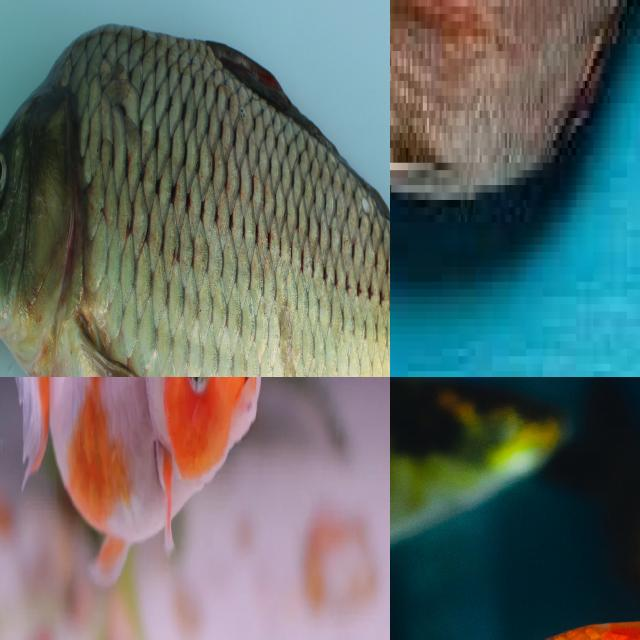fish: (0, 0, 390, 377), (390, 0, 640, 377), (0, 377, 274, 640), (390, 377, 640, 640)
